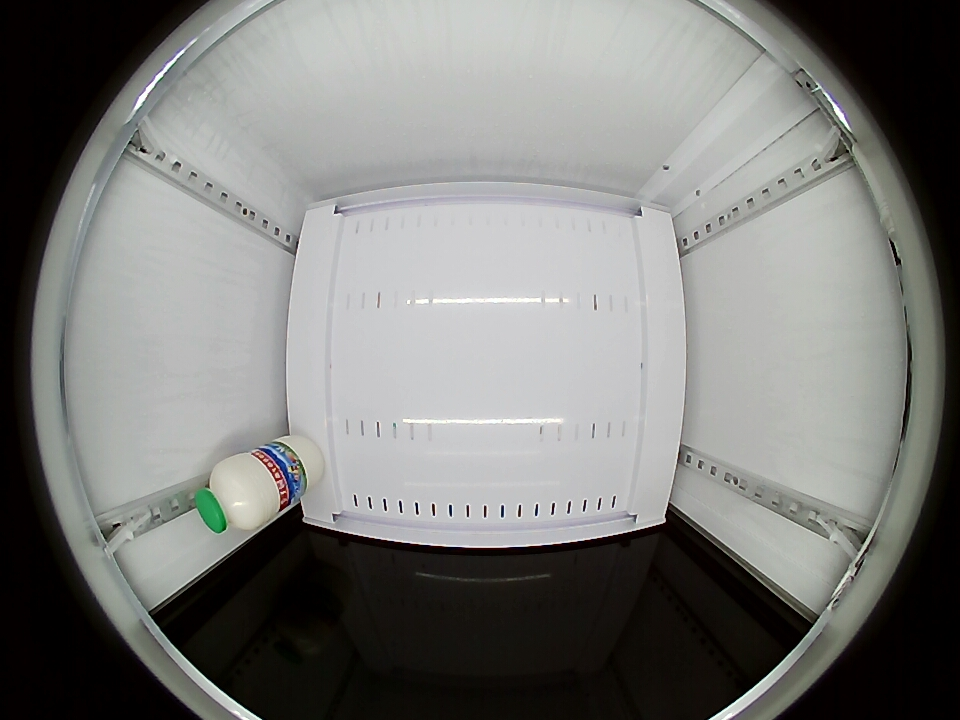liziyuan: (194, 449, 285, 535)
